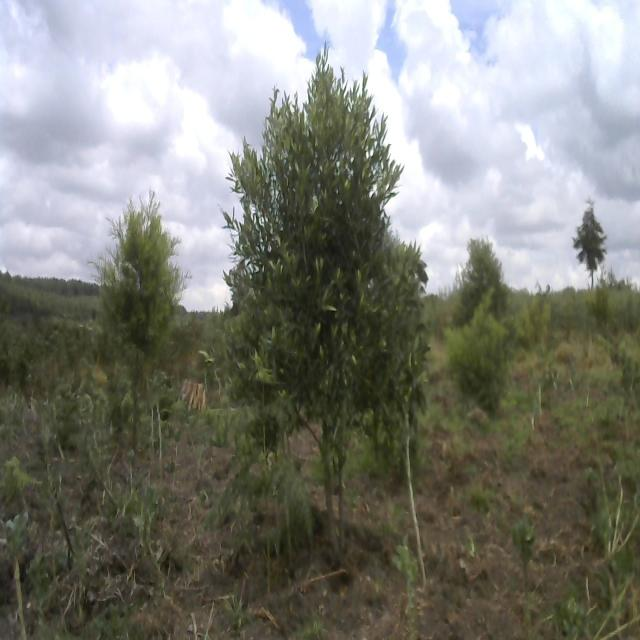Juniperus procesera: (571, 186, 615, 314)
Olea europea -africana-: (226, 45, 431, 572)
Podocarpus falcatus: (94, 180, 196, 462)
